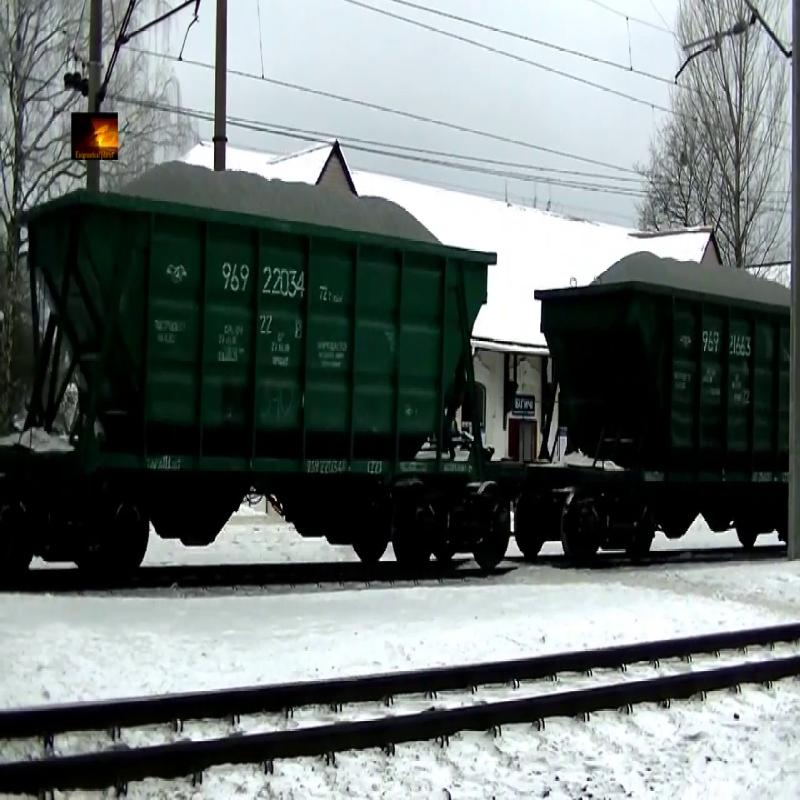train: (5, 162, 508, 580), (536, 259, 787, 570)
